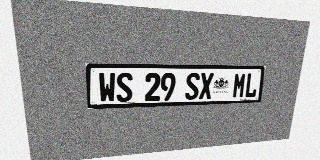2: (145, 73, 161, 101)
9: (160, 73, 176, 101)
L: (244, 73, 259, 98)
M: (232, 73, 247, 98)
S: (116, 73, 132, 102), (185, 73, 200, 100)
W: (98, 73, 116, 103)
X: (199, 73, 214, 99)
